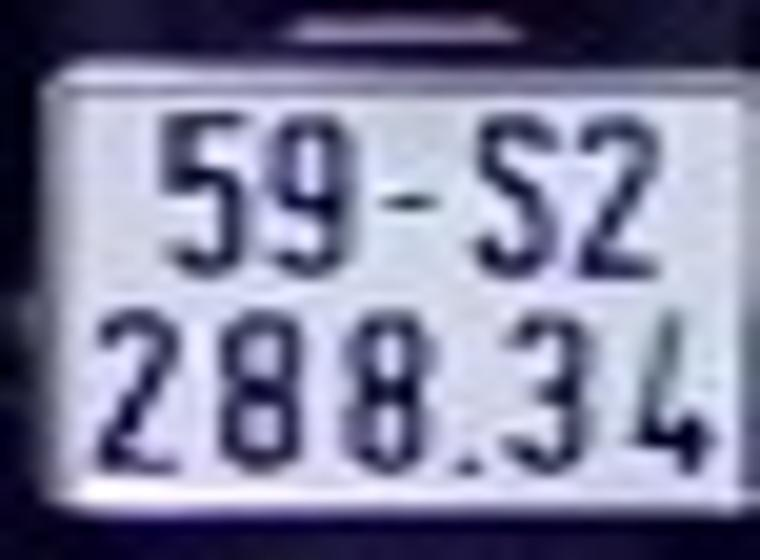-: (376, 190, 446, 216)
.: (451, 450, 477, 486)
2: (90, 300, 183, 483), (579, 106, 670, 287)
3: (508, 308, 592, 479)
4: (631, 314, 718, 479)
5: (157, 105, 250, 277)
8: (343, 306, 424, 475), (220, 304, 299, 477)
9: (267, 109, 361, 281)
S: (470, 109, 571, 287)
